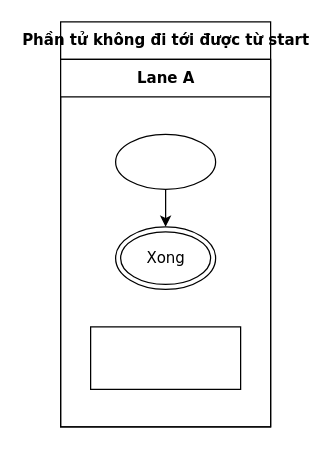
Some shapes in this 330 by 449 pixel diagram are drawn without their labels. The centre of each missing label's shape, as x and y in pixels:
"Việc rời rạc" goes at (165,357).
"Vào" goes at (165,161).
